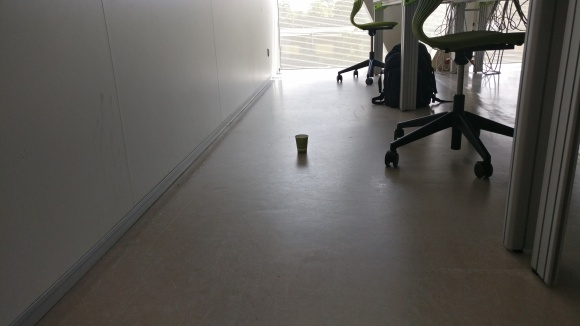cup: (293, 132, 309, 153)
